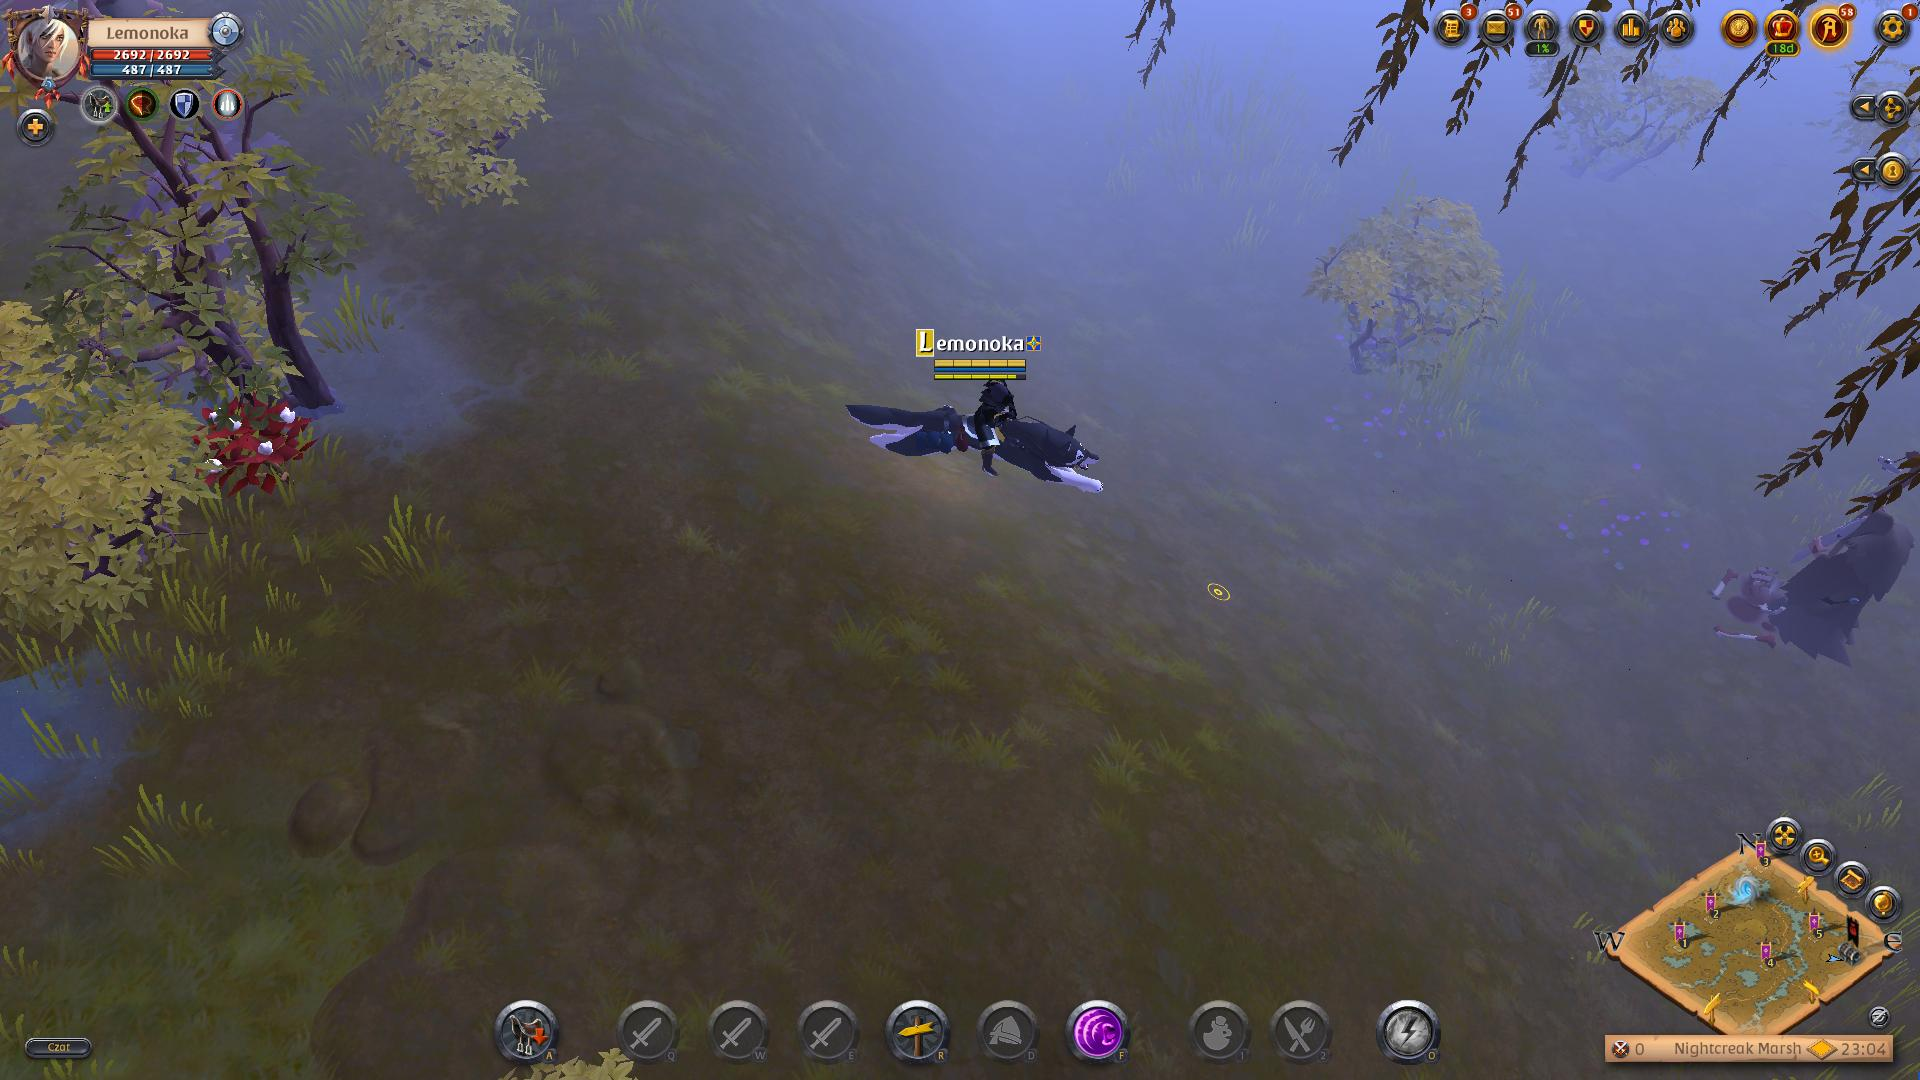fiber tier 5: (204, 390, 322, 508)
